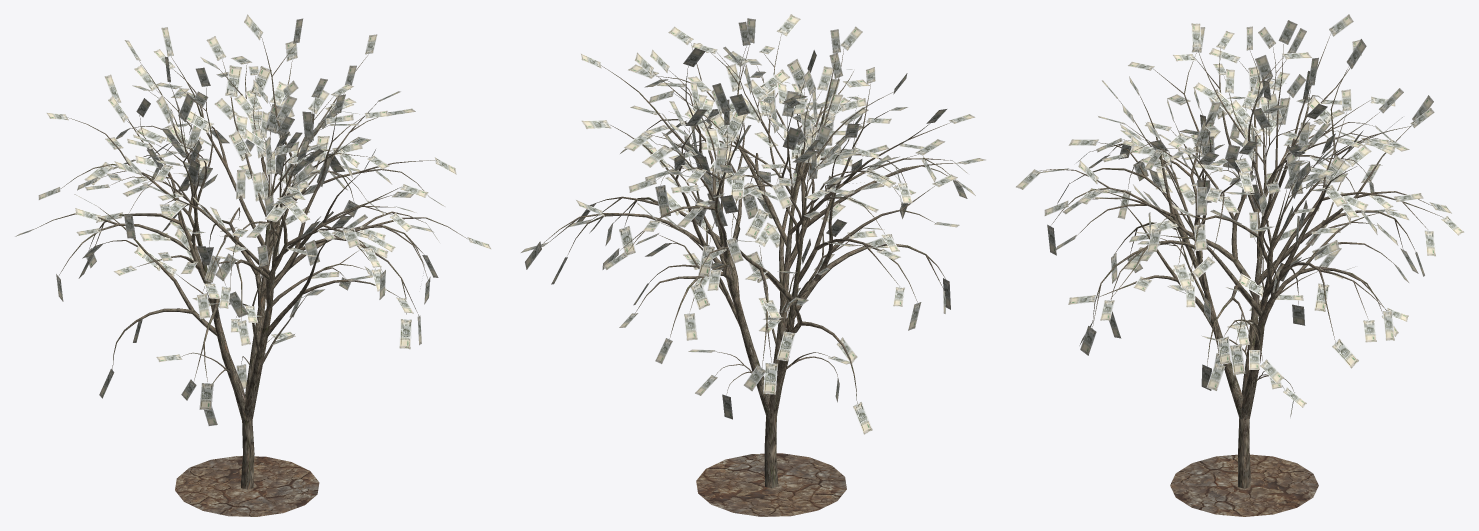
Rendered from money_tree.glb.
The picture shows the model from 3 angles, left to right: view 1: azimuth 30°, elevation 25°; view 2: azimuth 150°, elevation 25°; view 3: azimuth 270°, elevation 25°; orthographic projection. The views are drawn at different scales.
Parts seen in each view (by area): view 1: leaves_0, tree_1, Ground_2; view 2: leaves_0, tree_1, Ground_2; view 3: leaves_0, tree_1, Ground_2.
Boxes of the visible parts, x1=… form: leaves_0: x1=15, y1=14, x2=491, y2=425; tree_1: x1=33, y1=37, x2=467, y2=489; Ground_2: x1=175, y1=456, x2=319, y2=516; leaves_0: x1=521, y1=14, x2=985, y2=434; tree_1: x1=541, y1=34, x2=960, y2=488; Ground_2: x1=696, y1=453, x2=846, y2=516; leaves_0: x1=1016, y1=14, x2=1464, y2=417; tree_1: x1=1039, y1=34, x2=1443, y2=488; Ground_2: x1=1170, y1=454, x2=1318, y2=516.
Size of the model in its own units: 5.85 by 6.61 by 6.03.
3 materials, 3 textured.
